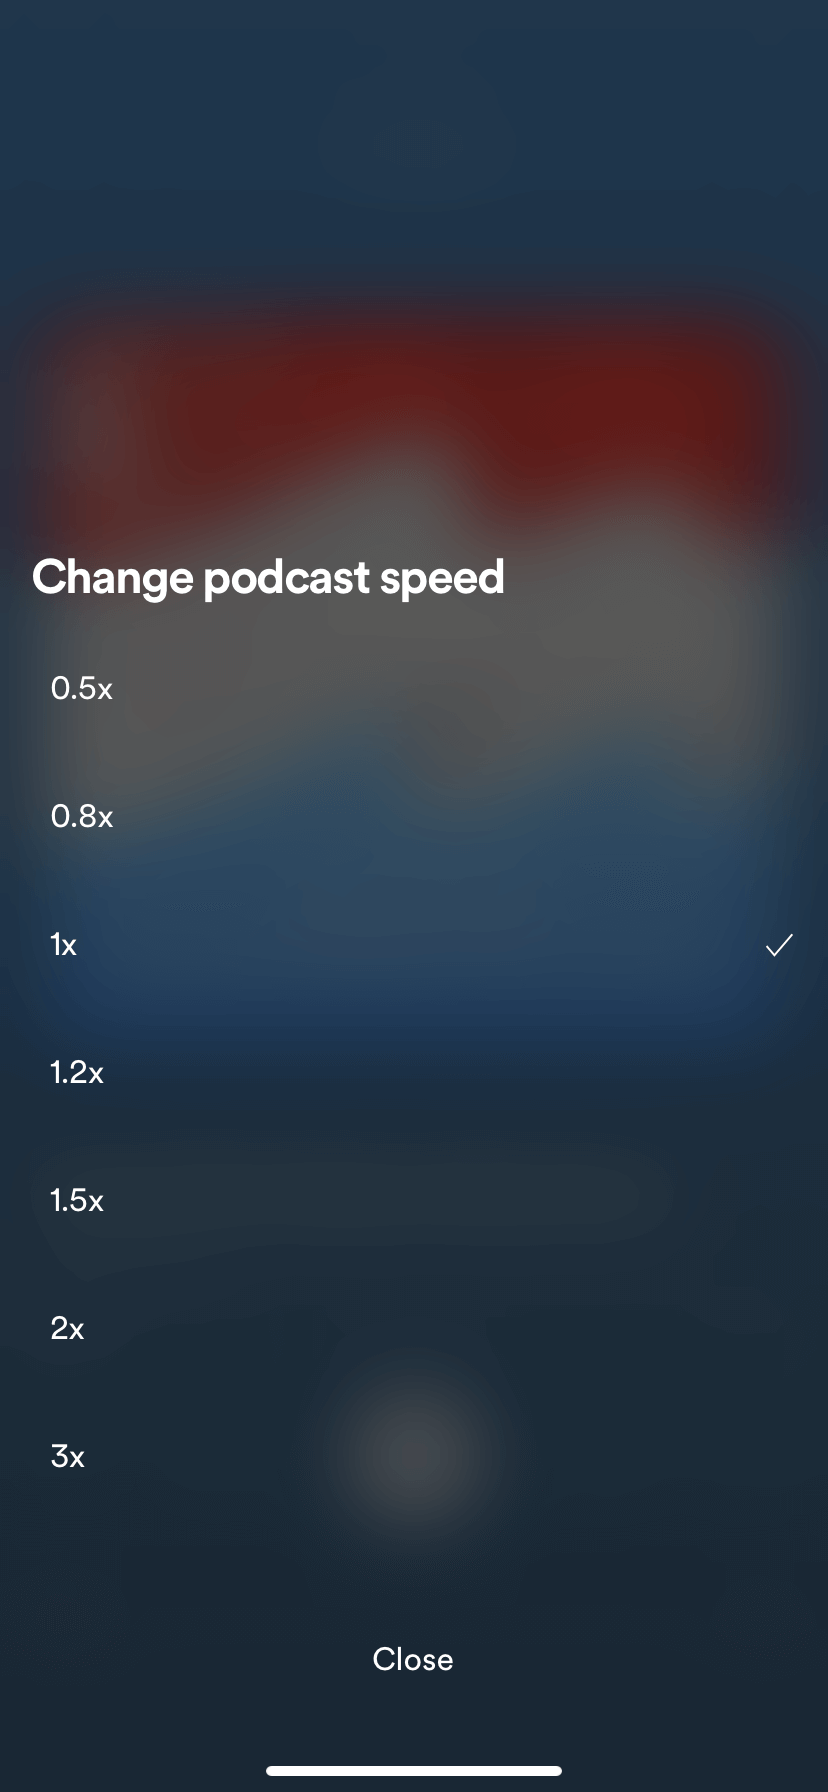Buttons: (318, 1614, 520, 1693)
